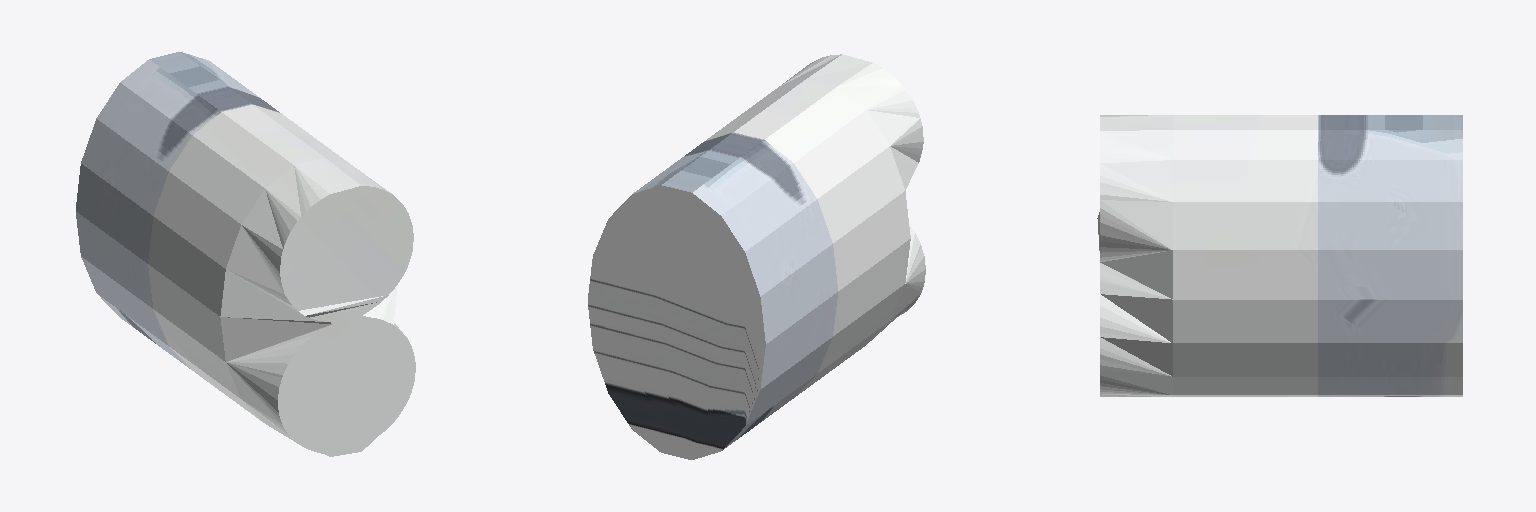
The picture shows the model from 3 angles: view 1: azimuth 30°, elevation 25°; view 2: azimuth 150°, elevation 25°; view 3: azimuth 270°, elevation 25°; orthographic projection.
Visible parts, largest first — view 1: Cylinder003; view 2: Cylinder003; view 3: Cylinder003.
Boxes of the visible parts, box(x1,y1,x2,y2) form: Cylinder003: box(76, 52, 415, 456); Cylinder003: box(588, 54, 925, 459); Cylinder003: box(1097, 115, 1462, 396).
Size of the model in its own units: 5.69 by 8.15 by 10.08.
Materials: 1 (1 with a texture image).